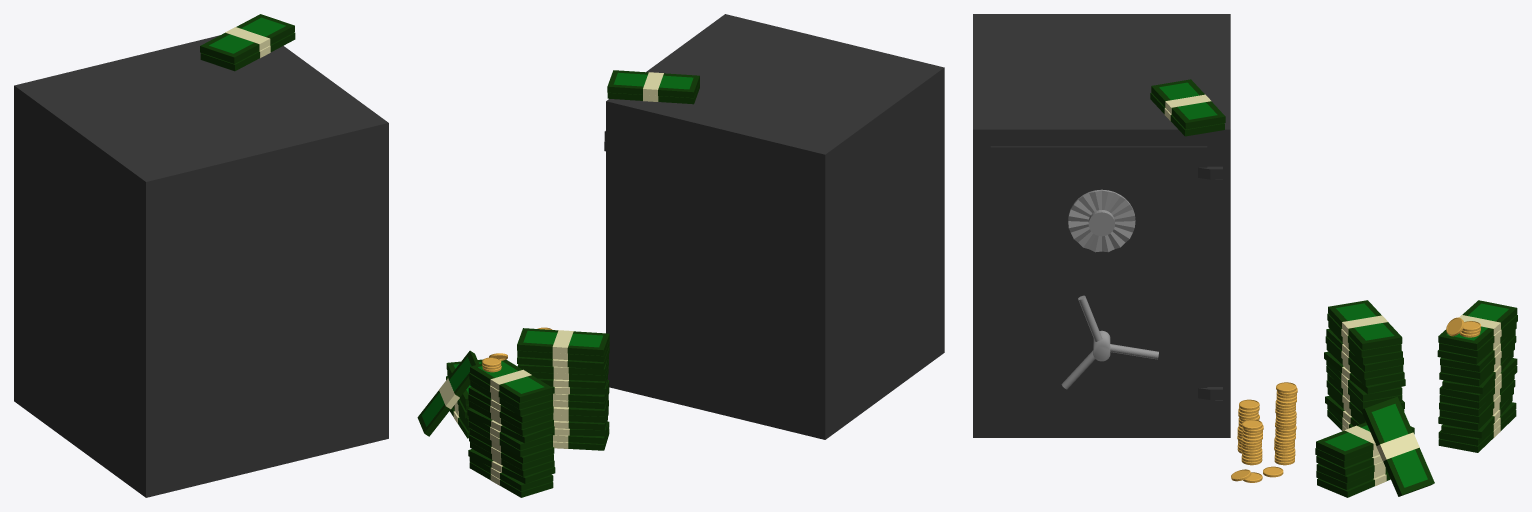
Rendered from safe.gltf.
3 views of the same model, side by side, from view 1: azimuth 30°, elevation 25°; view 2: azimuth 150°, elevation 25°; view 3: azimuth 270°, elevation 25° (orthographic). The views are drawn at different scales.
Visible parts, largest first — view 1: Circle.063; view 2: Circle.063; view 3: Circle.063.
Part boxes in pixels (left/top/right/bottom): Circle.063: left=14, top=14, right=388, bottom=497; Circle.063: left=417, top=14, right=944, bottom=497; Circle.063: left=973, top=14, right=1517, bottom=497.
Size of the model in its own units: 4.97 by 4.35 by 6.6.
